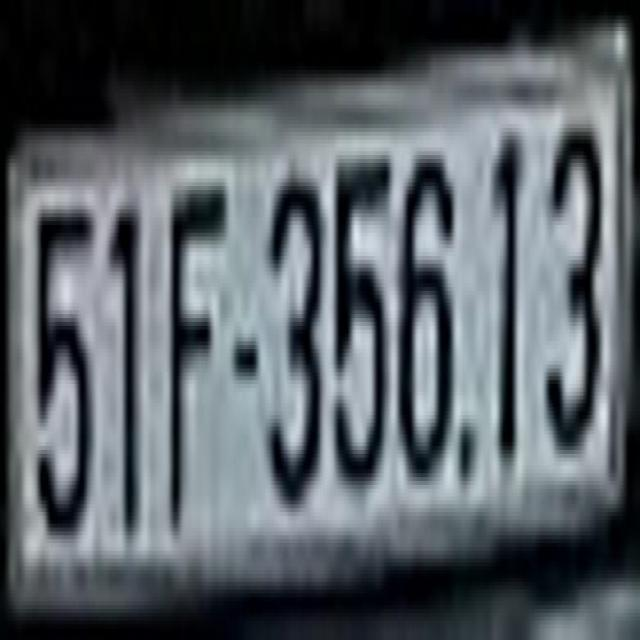1: (110, 198, 144, 528), (490, 116, 520, 458)
3: (546, 105, 604, 454), (269, 174, 321, 488)
5: (334, 151, 391, 473), (40, 198, 92, 504)
6: (400, 143, 453, 481)
F: (168, 170, 228, 528)
